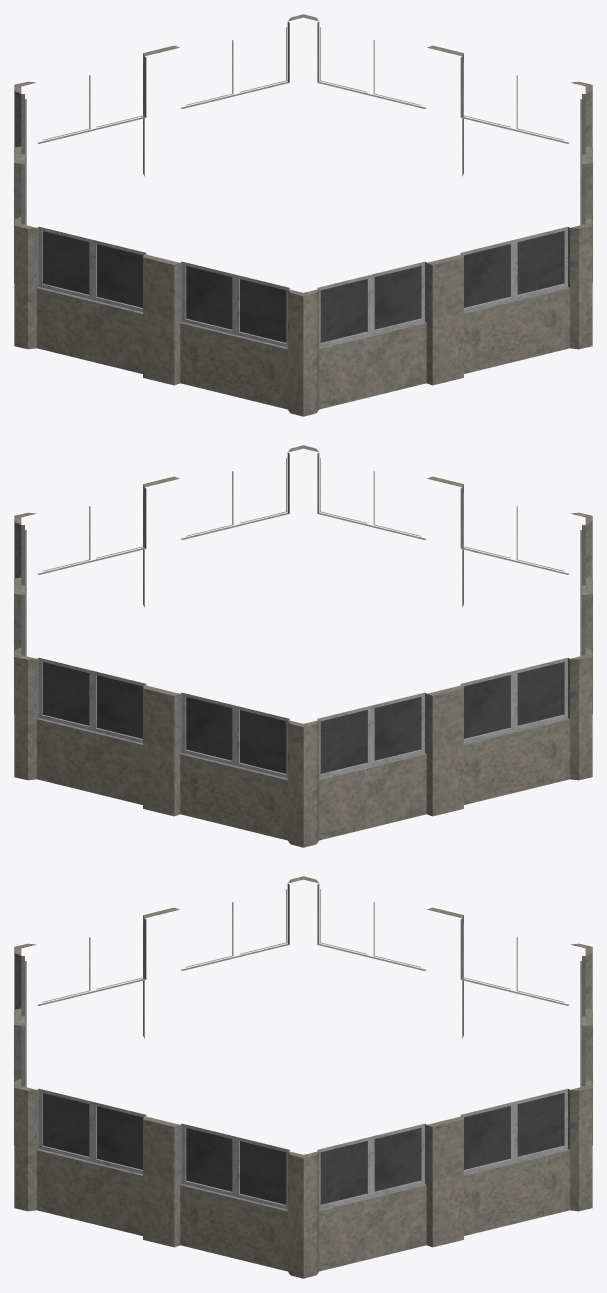
Rendered from BarUnlit.glb.
3 views of the same model, one above another, from view 1: azimuth 30°, elevation 25°; view 2: azimuth 150°, elevation 25°; view 3: azimuth 270°, elevation 25° (orthographic).
Visible parts, largest first — view 1: Bar.002; view 2: Bar.002; view 3: Bar.002.
Part boxes in pixels (box(x1,y1,x2,y2)): Bar.002: box(14, 14, 592, 416); Bar.002: box(14, 445, 592, 847); Bar.002: box(14, 876, 592, 1278).
Size of the model in its own units: 9.14 by 1.82 by 7.93.
1 material, 1 textured.
